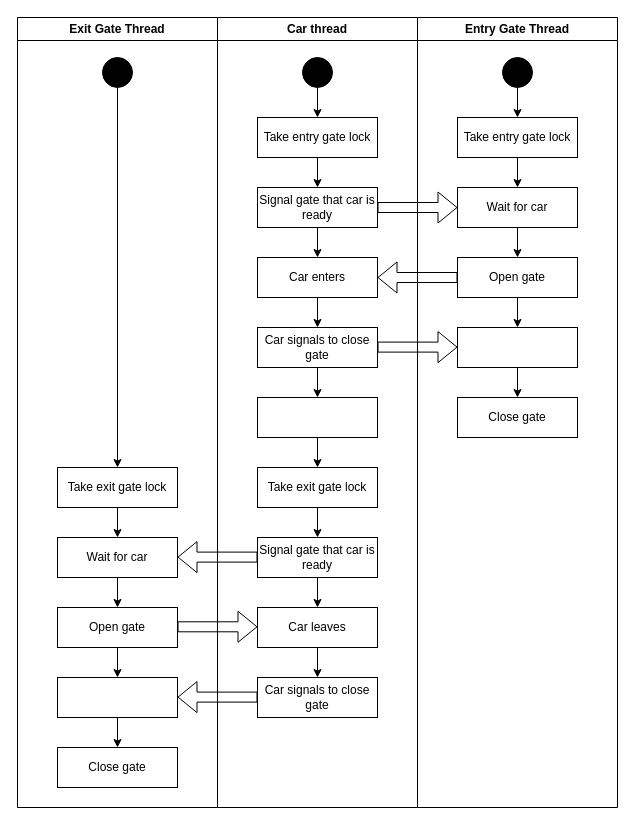
The diagram is 635 pixels wide and 825 high, and some of its shapes have lost their labels. The centre of each missing label's shape, as x and y in pixels:
"Car parks" belongs at point 317,417.
"Wait for car to enter" belongs at point 517,347.
"Wait for car to exit" belongs at point 117,697.
